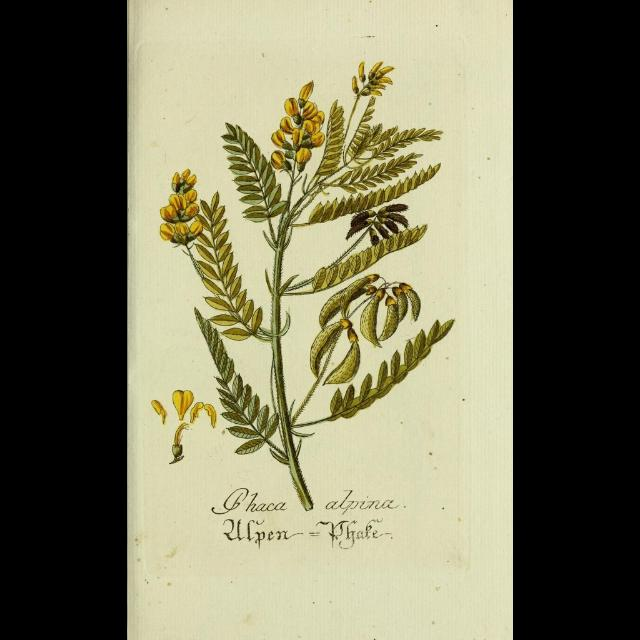Flower: (158, 174, 204, 244)
